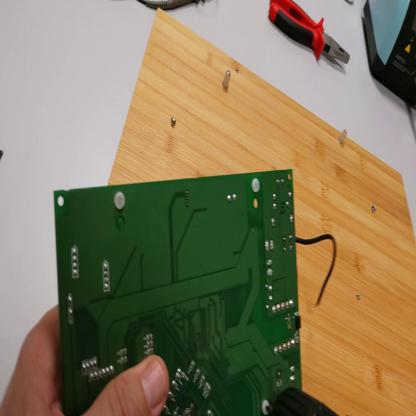electric screwdriver: (265, 388, 337, 416)
hand: (2, 303, 171, 415)
low voltage board: (53, 169, 334, 416)
pliers: (267, 1, 352, 73)
welder station: (364, 1, 416, 109)
working area: (109, 10, 415, 415)
